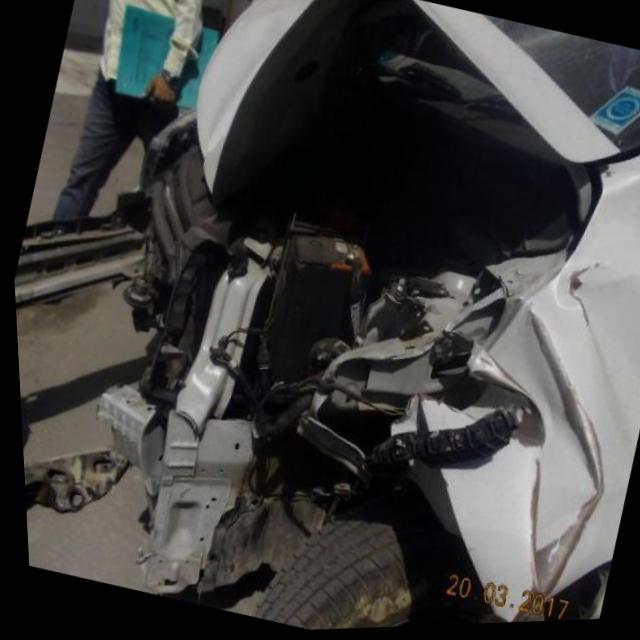Car-Damage: (6, 20, 640, 640), (494, 24, 619, 91)
